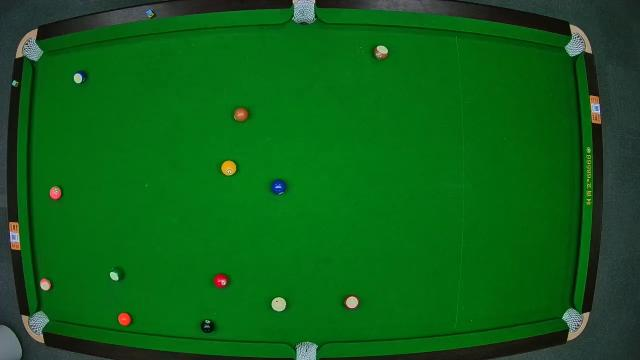bag1: (20, 39, 42, 61)
bag2: (290, 0, 318, 26)
bag3: (564, 34, 588, 56)
bag4: (28, 309, 52, 335)
bag5: (293, 338, 321, 360)
bag6: (562, 308, 584, 330)
ball0: (271, 296, 287, 312)
ball1: (220, 160, 238, 176)
ball10: (74, 70, 88, 84)
ball11: (344, 294, 361, 310)
ball12: (38, 277, 52, 291)
ball14: (108, 266, 124, 282)
ball15: (373, 45, 391, 61)
ball2: (270, 179, 288, 195)
ball3: (213, 272, 229, 288)
ball4: (49, 185, 63, 199)
ball5: (118, 312, 132, 326)
ball7: (233, 107, 249, 123)
ball8: (200, 320, 216, 334)
